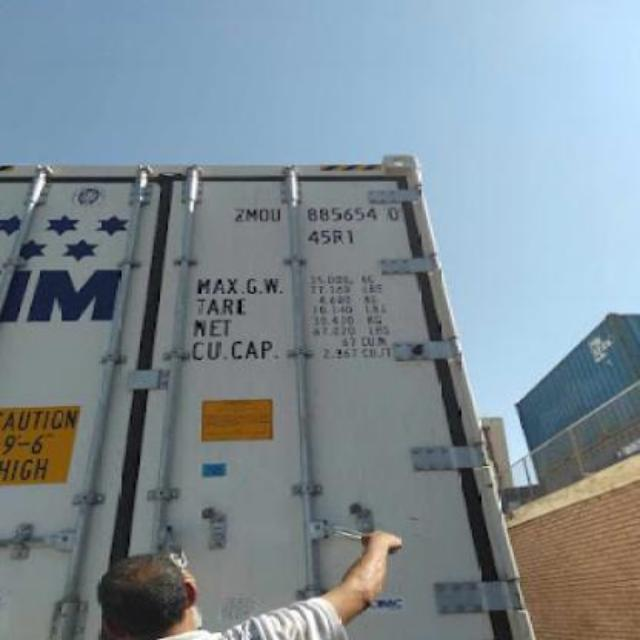0: (388, 206, 398, 220)
4: (366, 206, 378, 220)
5: (354, 208, 368, 222), (330, 208, 342, 220)
6: (344, 208, 354, 222)
8: (306, 208, 320, 222), (318, 208, 330, 222)
M: (246, 208, 258, 222)
O: (258, 208, 270, 222)
U: (270, 208, 282, 222)
Z: (232, 208, 245, 222)
